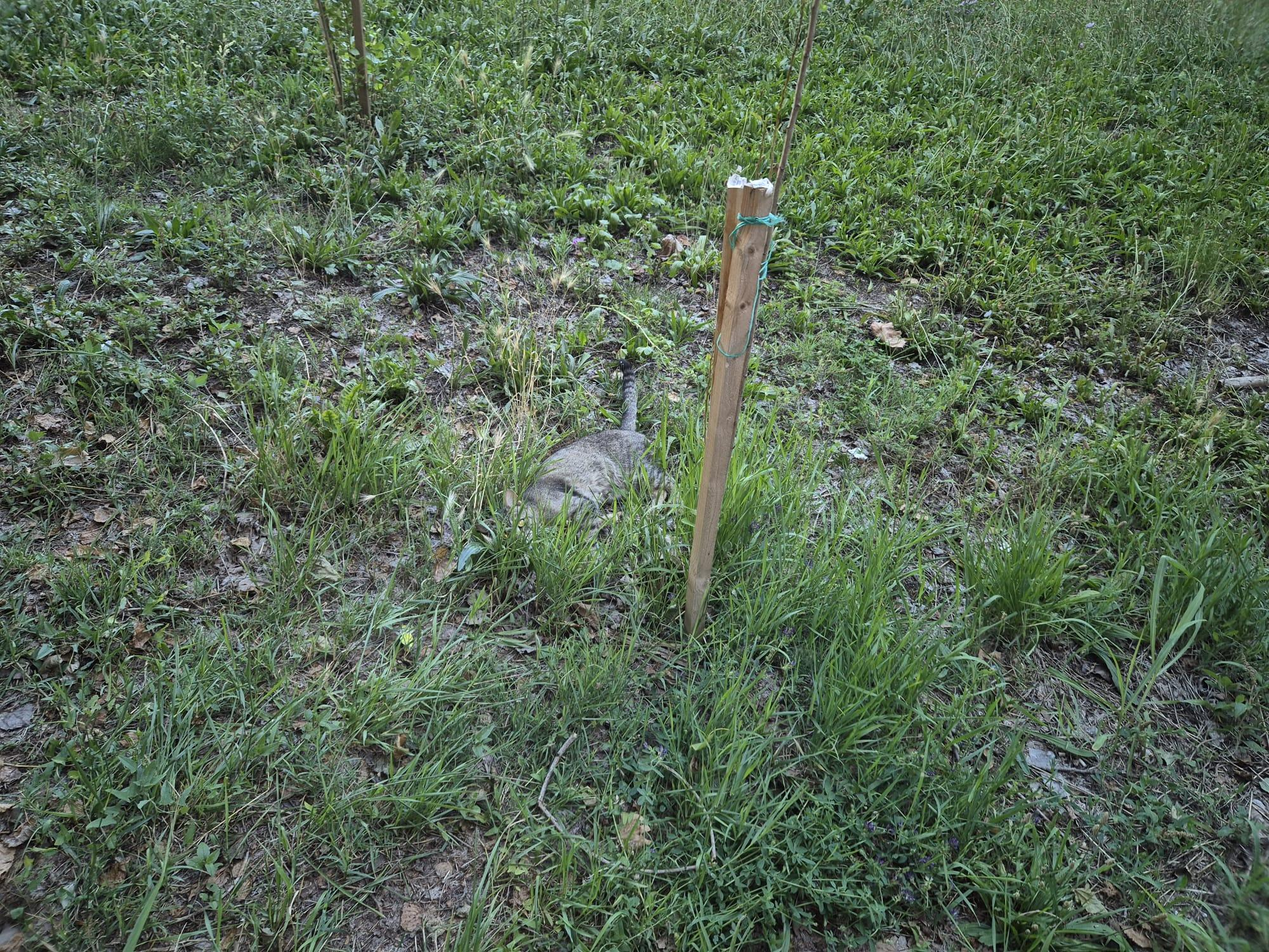macka: (472, 357, 683, 546)
